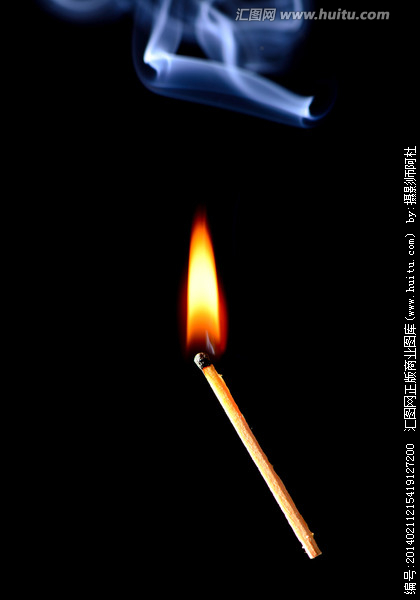Fire: (178, 217, 229, 355)
